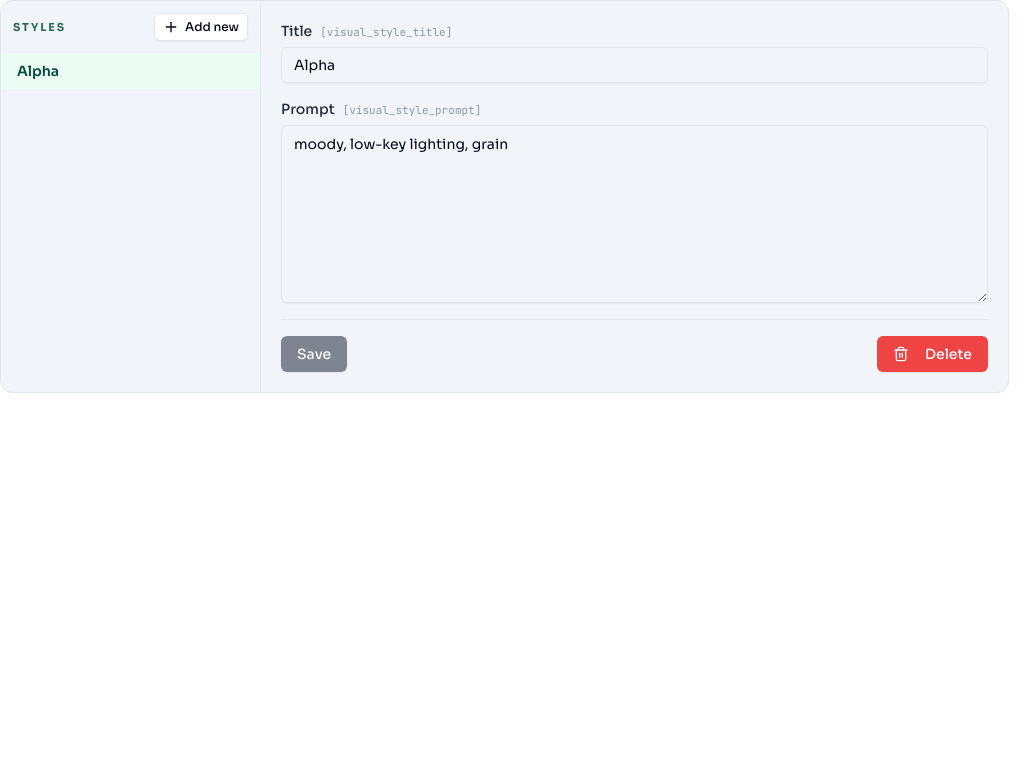
Test case: VisualStyleGallery — delete flow › deleting the last entry clears the right pane to the empty state
Expected: the field showing "Alpha" is shown, [281,47,988,83]
Click the button "Delete" at [932, 354], box [877,336,988,372]
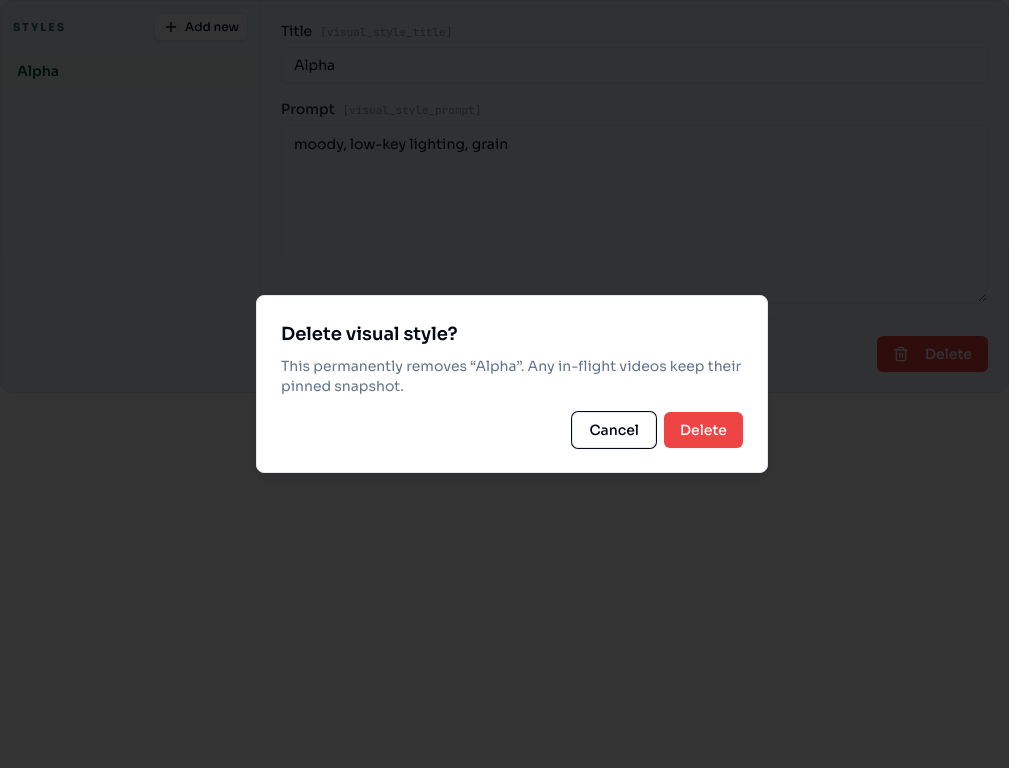
Click the button "Delete" at [704, 430], box [664,412,743,448]
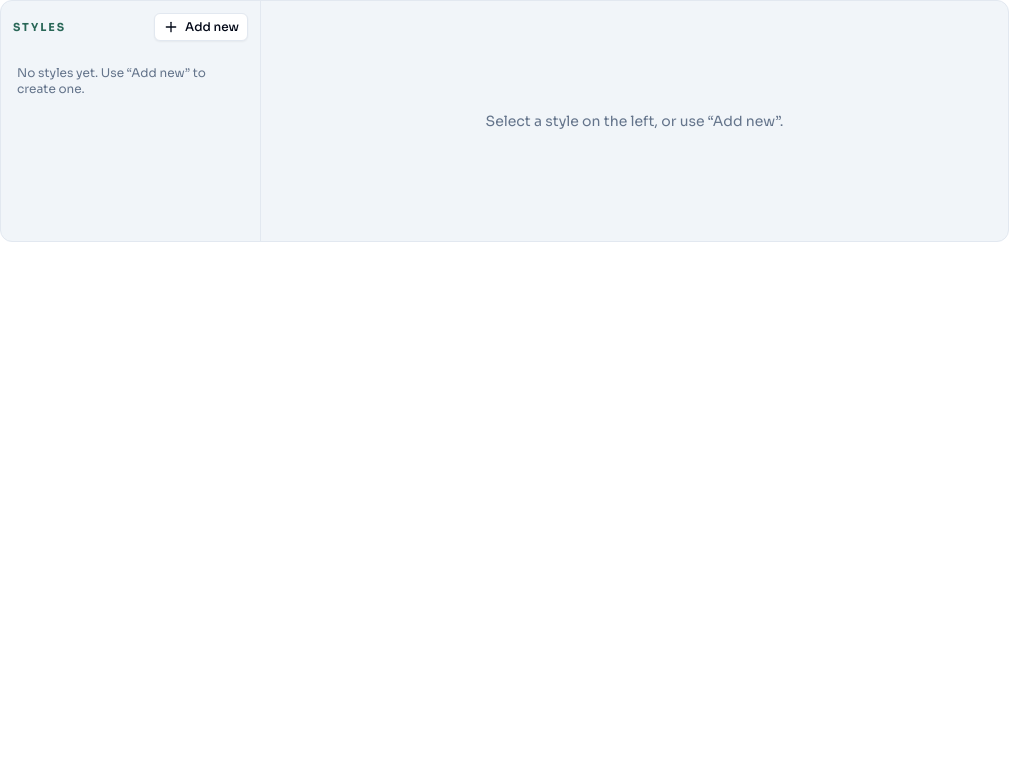
Expected: the text "Select a style on the left, or use “Add new”." is shown, [486,112,784,130]
